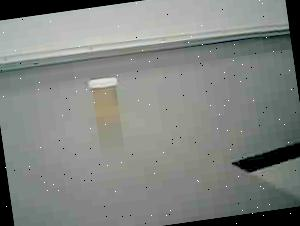Bottle B: (80, 71, 128, 129)
